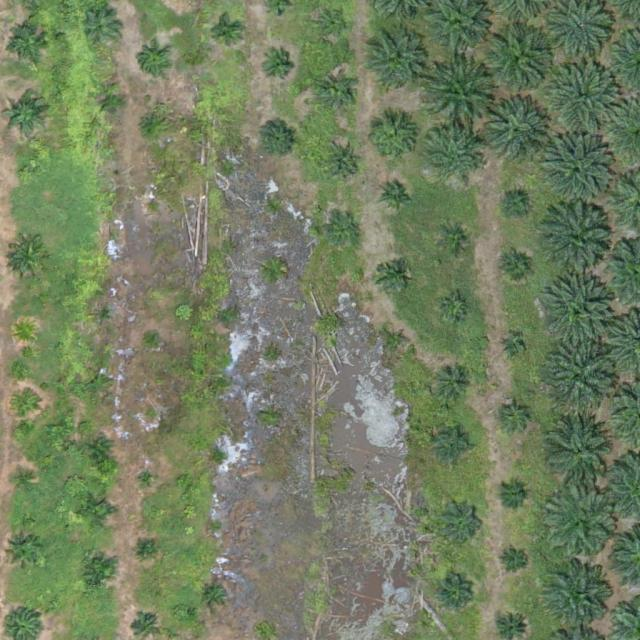Healthy: (551, 62, 622, 133), (545, 341, 616, 412), (484, 27, 554, 98), (426, 62, 496, 133), (545, 277, 615, 348), (545, 413, 616, 483), (542, 565, 612, 636), (547, 491, 617, 562), (480, 97, 550, 167), (544, 138, 614, 208), (544, 208, 614, 278), (364, 35, 426, 97), (427, 129, 482, 184)
Small: (365, 112, 419, 167), (2, 93, 49, 141), (439, 499, 486, 546), (324, 144, 364, 184), (258, 118, 298, 158), (321, 75, 360, 115), (83, 8, 122, 48), (10, 238, 49, 278), (4, 533, 43, 573), (79, 554, 118, 594), (436, 365, 475, 405), (79, 492, 118, 532), (10, 26, 49, 65), (436, 578, 475, 617), (436, 426, 475, 465), (379, 177, 418, 216), (210, 17, 241, 49), (263, 51, 294, 83), (500, 401, 531, 433), (96, 87, 127, 119), (135, 109, 166, 141), (498, 479, 529, 511), (329, 219, 360, 250), (376, 259, 407, 290), (138, 46, 169, 77), (440, 294, 471, 325), (441, 226, 472, 257), (317, 8, 348, 39), (500, 546, 531, 577), (501, 189, 532, 220), (502, 253, 533, 284), (201, 580, 232, 611), (387, 330, 411, 354), (14, 320, 38, 344), (501, 335, 525, 359), (137, 469, 161, 493), (90, 439, 114, 463), (15, 397, 39, 421), (14, 472, 38, 496), (87, 370, 111, 394), (93, 304, 116, 328), (146, 329, 162, 345), (144, 199, 160, 214), (20, 165, 35, 181), (139, 541, 154, 557)
